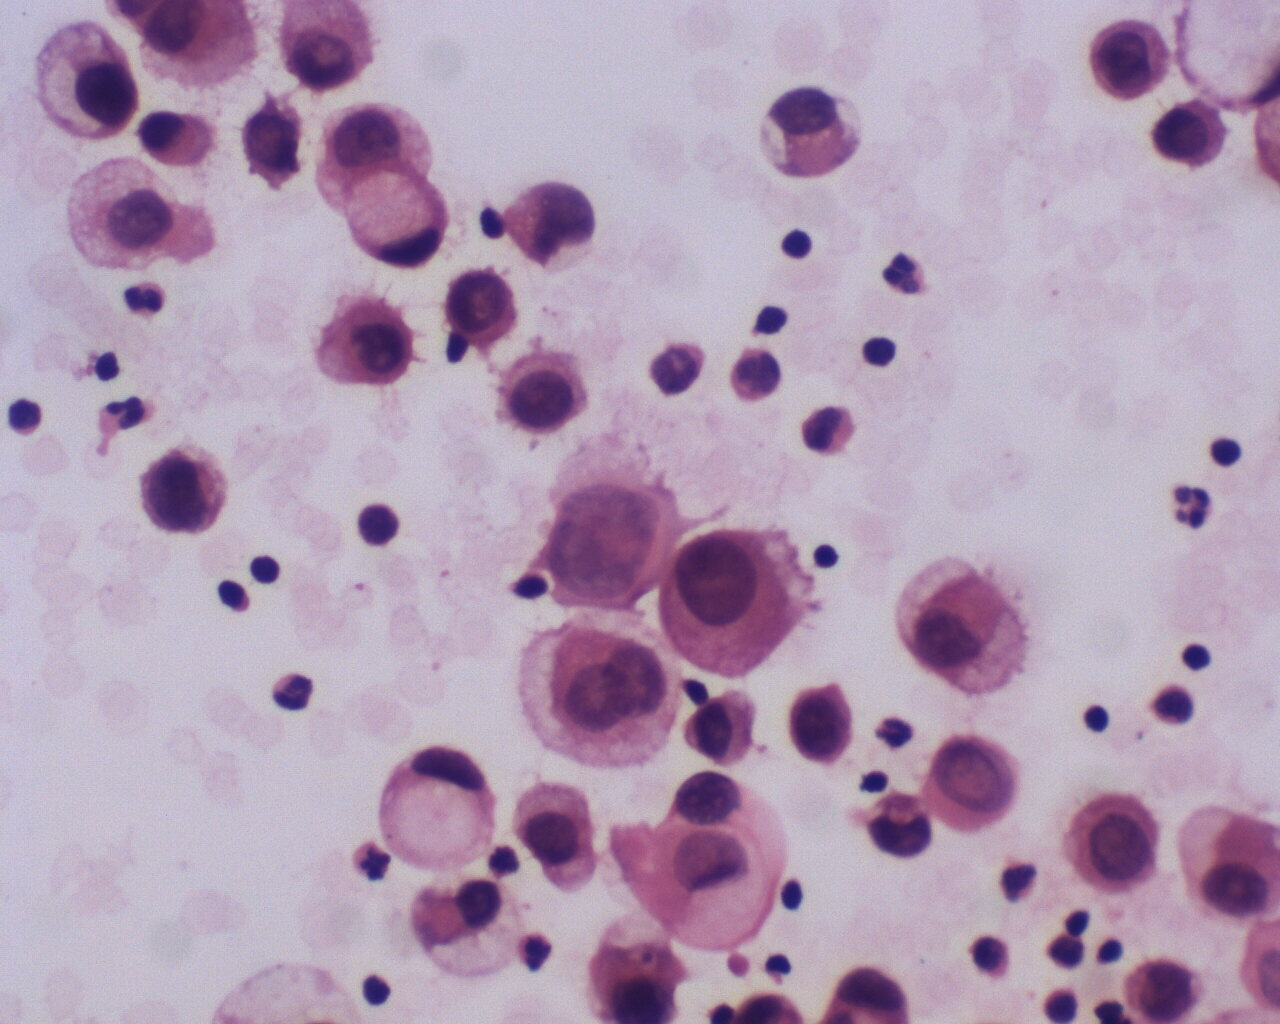ab: (28, 16, 141, 141), (928, 729, 1028, 840), (1067, 789, 1162, 897), (138, 440, 235, 542), (495, 338, 594, 434), (501, 177, 599, 272), (1086, 11, 1176, 108), (444, 263, 529, 353), (783, 675, 857, 767), (1146, 91, 1225, 174), (1118, 953, 1208, 1024)
histo: (368, 741, 501, 875), (346, 164, 459, 271)
lymph: (779, 220, 822, 265), (857, 328, 897, 376), (1204, 430, 1246, 475), (249, 546, 287, 587), (1180, 636, 1215, 677), (1081, 692, 1115, 735), (807, 538, 842, 575)
meso: (654, 525, 807, 678), (132, 101, 219, 172)
neutro: (1166, 480, 1223, 533), (881, 246, 930, 299), (121, 272, 170, 320), (270, 670, 317, 715), (101, 388, 147, 432), (510, 929, 553, 975)
